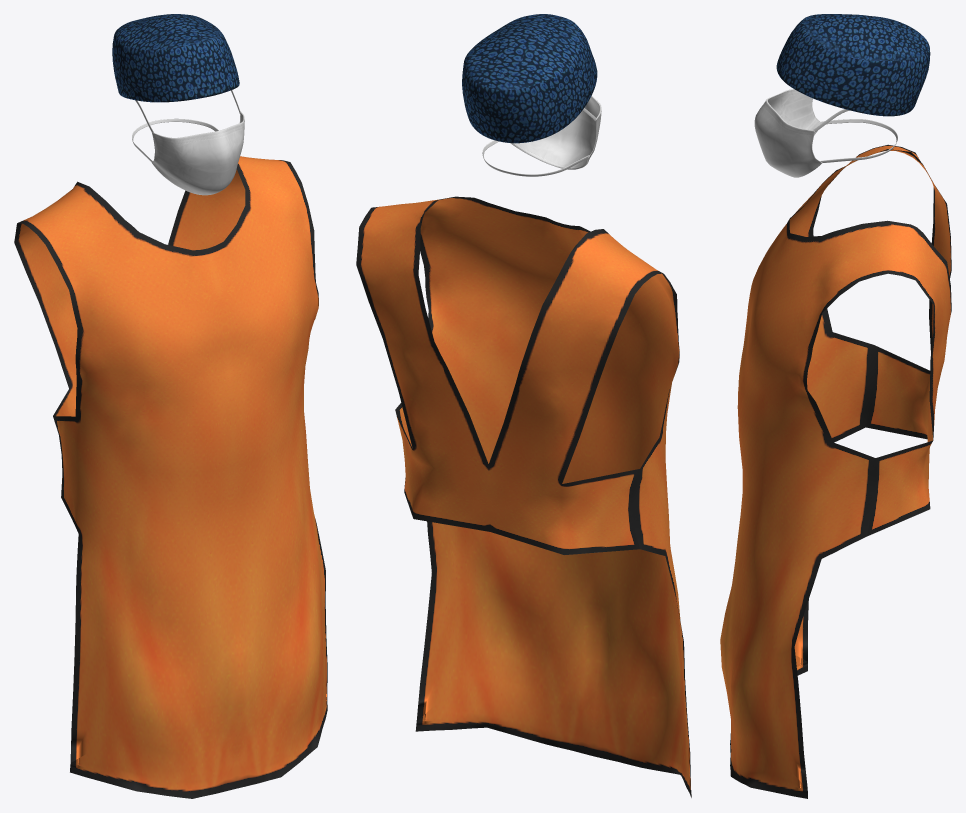
Rendered from X Ray 4.obj.
The picture shows the model from 3 angles, left to right: view 1: azimuth 30°, elevation 25°; view 2: azimuth 150°, elevation 25°; view 3: azimuth 270°, elevation 25°; orthographic projection. The views are drawn at different scales.
Visible parts, largest first — view 1: Protection, Mask002; view 2: Protection, Mask002; view 3: Protection, Mask002.
Boxes of the visible parts, x1,y1,x2,y2 form: Protection: [14, 156, 327, 798]; Mask002: [112, 14, 244, 195]; Protection: [356, 196, 691, 797]; Mask002: [462, 14, 601, 176]; Protection: [720, 144, 951, 798]; Mask002: [754, 14, 930, 177].
Size of what is drawn, in the model's own units: 17.02 by 44.89 by 12.81.
